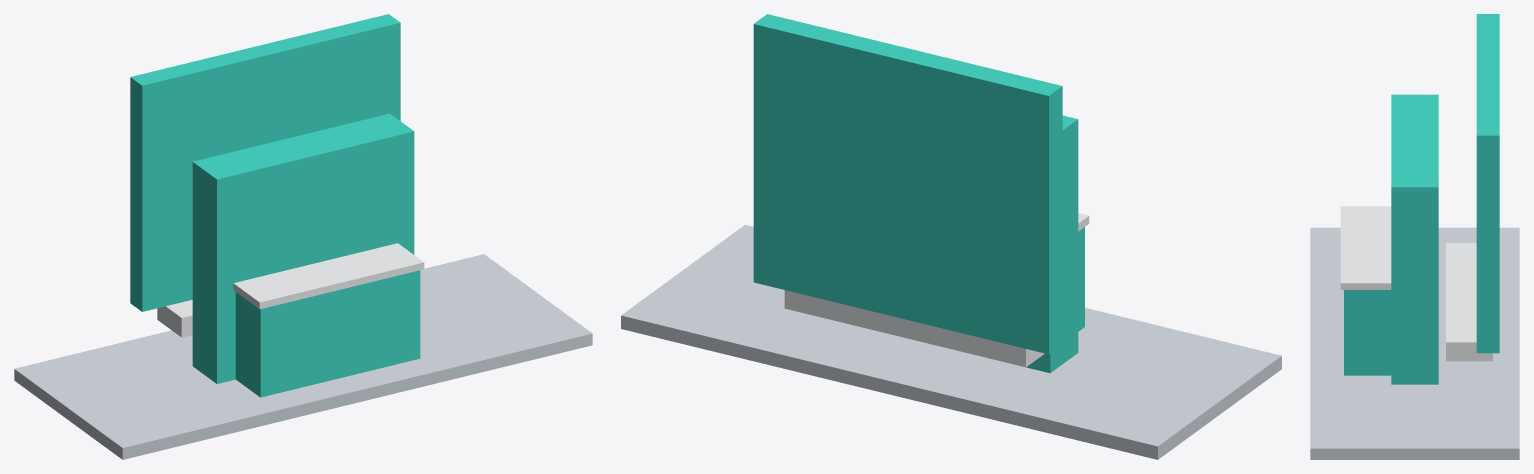
3 renders of one model, left to right at view 1: azimuth 30°, elevation 25°; view 2: azimuth 150°, elevation 25°; view 3: azimuth 270°, elevation 25°, orthographic. The views are drawn at different scales.
Visible parts, largest first — view 1: Exhibition Booth Concept; view 2: Exhibition Booth Concept; view 3: Exhibition Booth Concept.
Boxes of the visible parts, x1=… form: Exhibition Booth Concept: x1=14, y1=14, x2=592, y2=459; Exhibition Booth Concept: x1=621, y1=14, x2=1281, y2=459; Exhibition Booth Concept: x1=1310, y1=14, x2=1519, y2=459.
Size of the model in its own units: 5 by 2.9 by 2.
